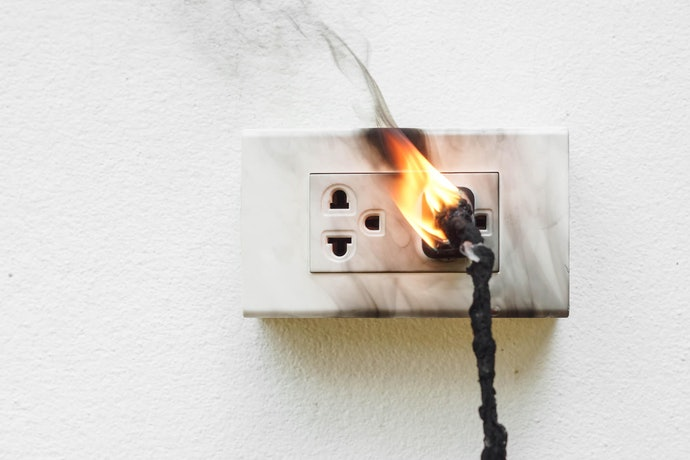Three_eye_plug: (224, 109, 591, 342)
